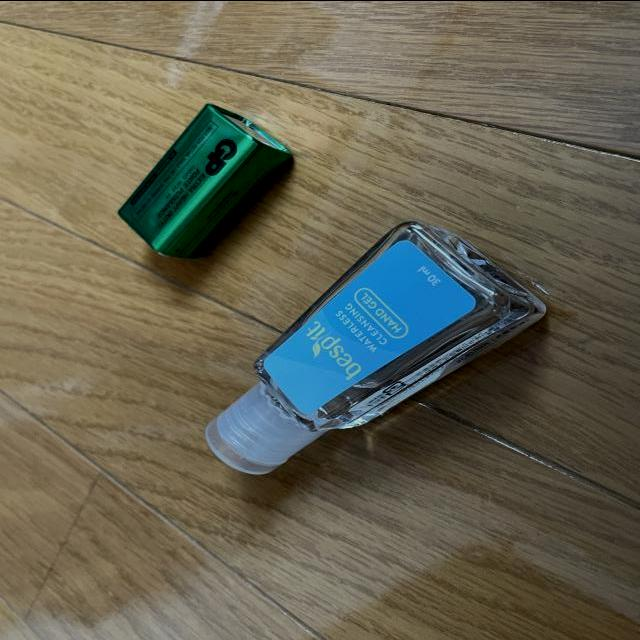9V: (116, 101, 287, 259)
